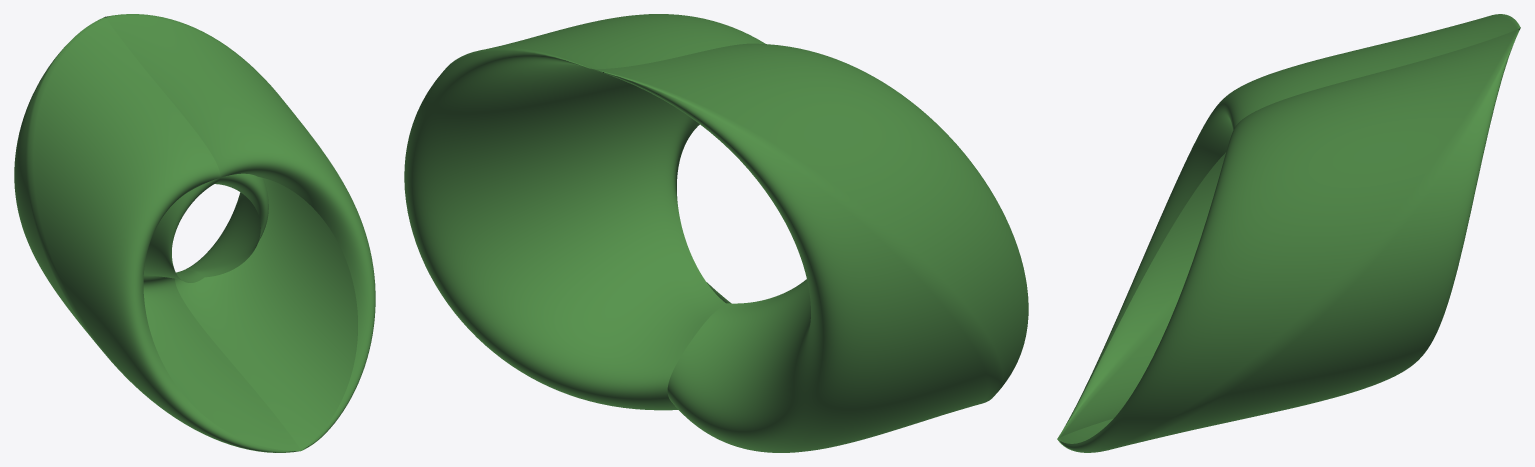
File: ai_attention_mechanism_ar_universal.glb
The picture shows the model from 3 angles, left to right: view 1: azimuth 30°, elevation 25°; view 2: azimuth 150°, elevation 25°; view 3: azimuth 270°, elevation 25°; orthographic projection. The views are drawn at different scales.
Visible parts, largest first — view 1: ai_attention_mechanism_ar; view 2: ai_attention_mechanism_ar; view 3: ai_attention_mechanism_ar.
Boxes of the visible parts, box(x1,y1,x2,y2) form: ai_attention_mechanism_ar: box(14, 14, 375, 452); ai_attention_mechanism_ar: box(404, 14, 1028, 452); ai_attention_mechanism_ar: box(1057, 14, 1520, 452).
Bounding box in the file's own units: 0.9056 × 0.9527 × 1.
